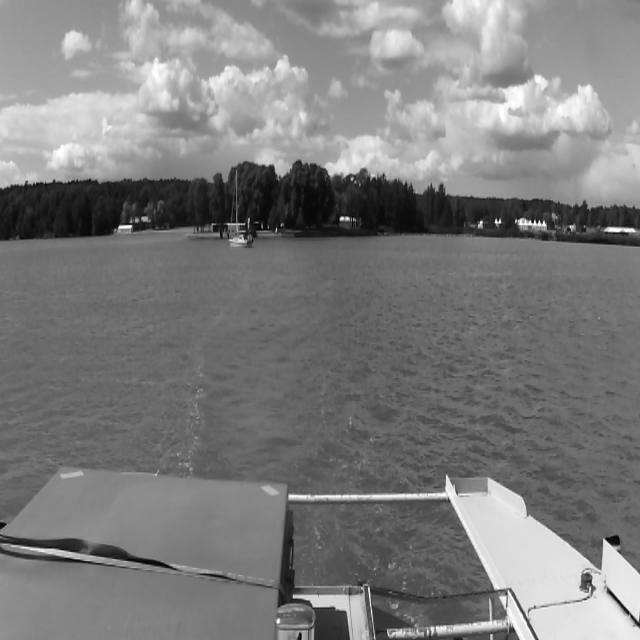ship: (230, 169, 254, 248)
